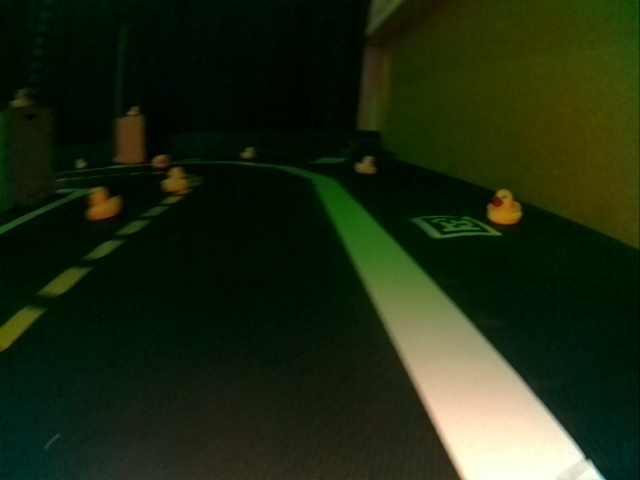Duckie: (487, 189, 521, 225), (86, 186, 120, 217), (161, 167, 188, 191), (354, 157, 376, 173), (12, 89, 30, 105), (240, 147, 253, 159), (153, 154, 164, 166), (129, 107, 138, 116), (76, 159, 84, 168)
QR code: (412, 215, 500, 236), (310, 156, 345, 165)
